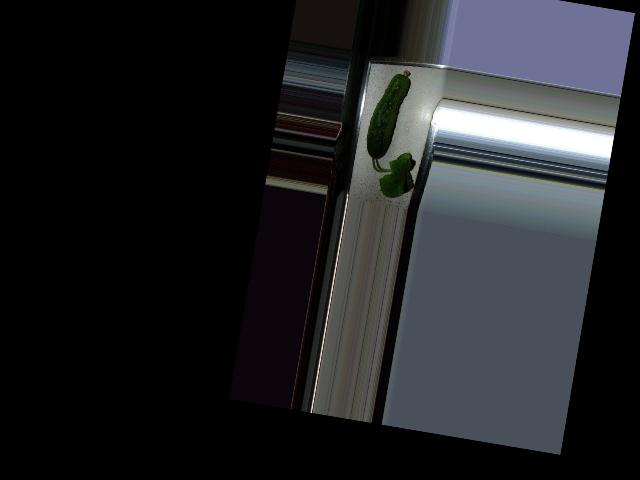cucumber: (363, 65, 412, 163)
